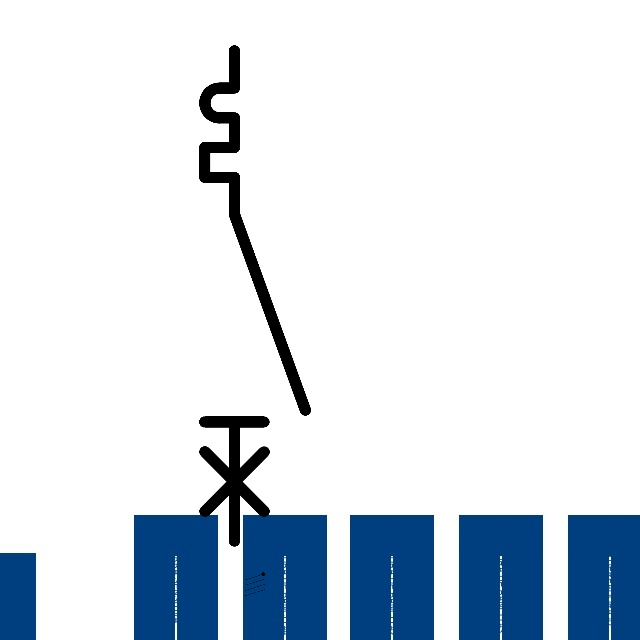interruptor_termomagnetico: (192, 38, 318, 553)
